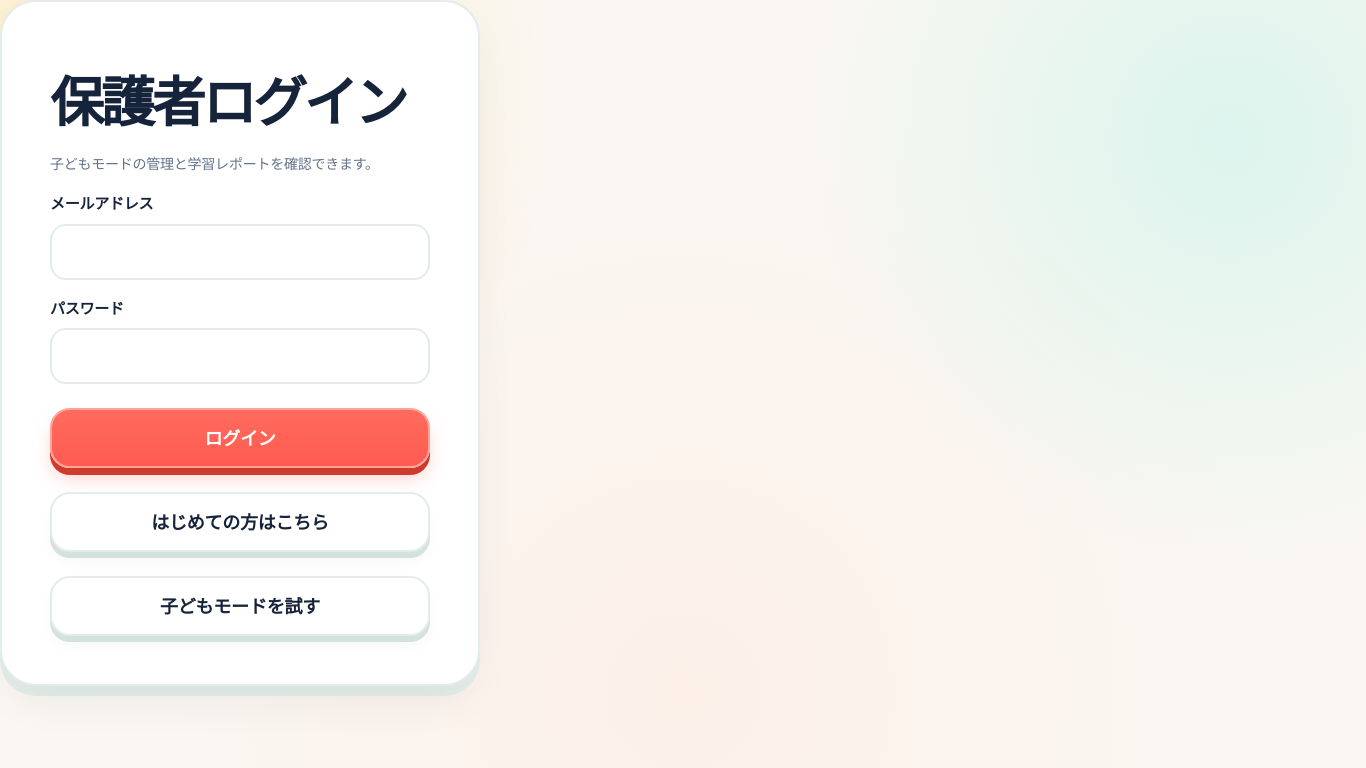
LoginForm › shows an error message when sign in fails
Type "parent@example.com" into the field labelled "メールアドレス" at [240, 252], box [50,224,430,280]
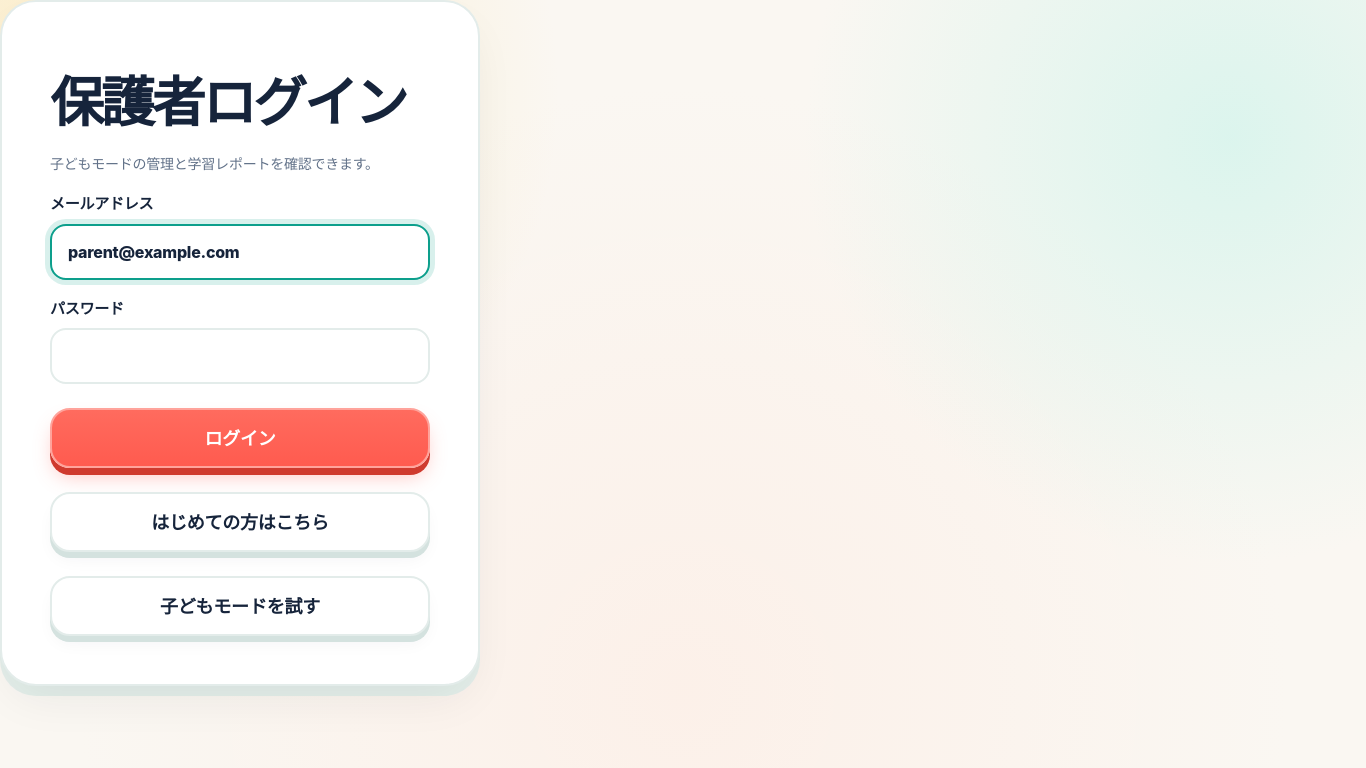
Type "wrongpassword" into the password field labelled "パスワード" at [240, 356], box [50,328,430,384]
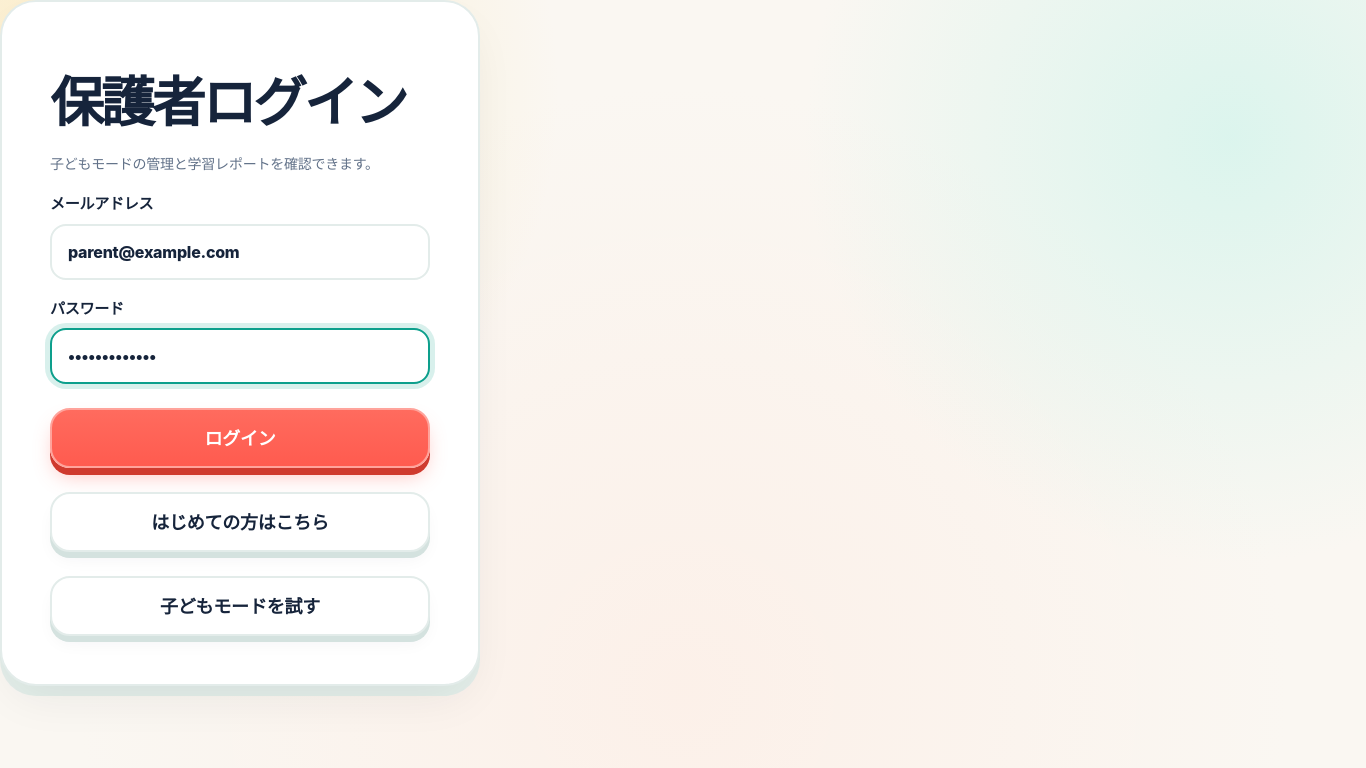
Click the button "ログイン" at [240, 438], box [50,408,430,468]
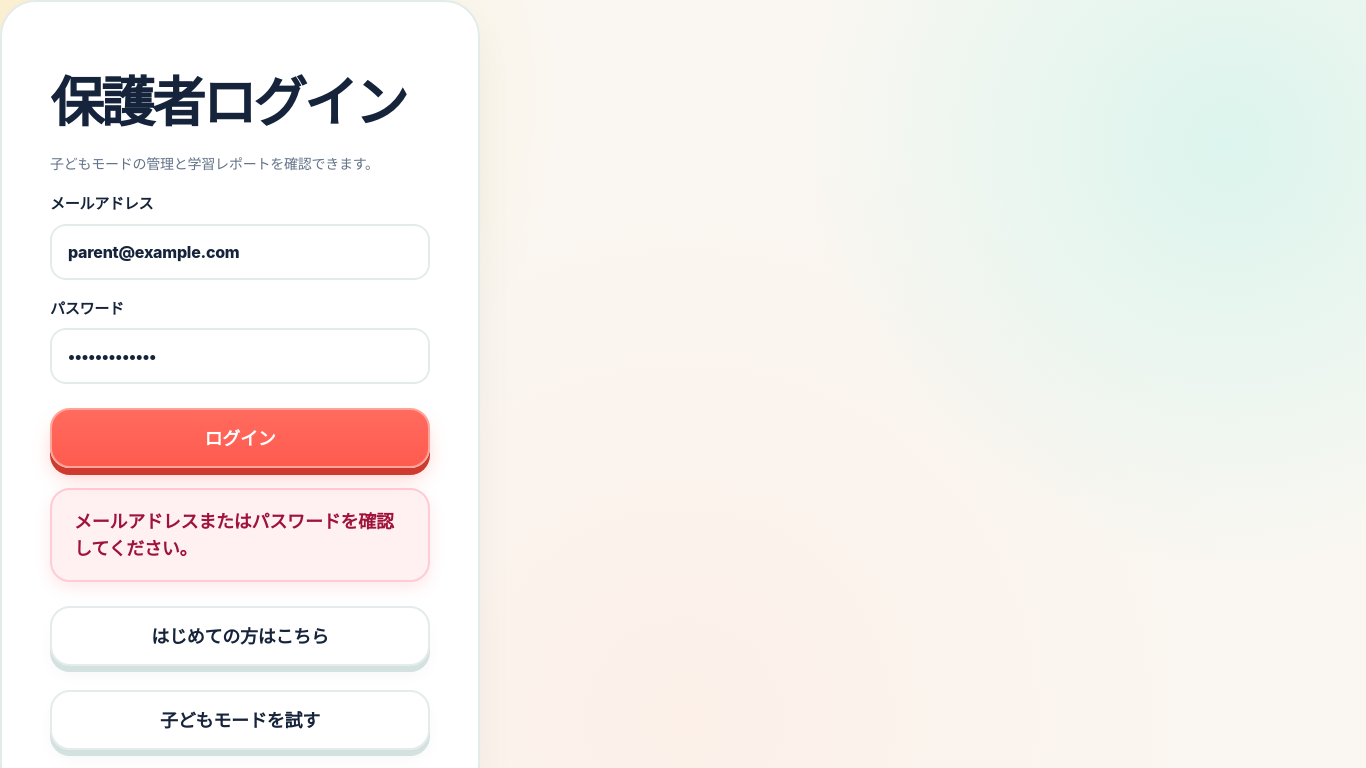
expect the message reads "メールアドレスまたはパスワードを確認してください。": met, box [74,511,394,559]
